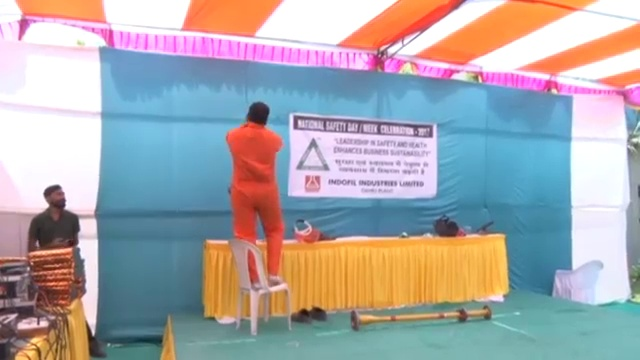helmet_off: (42, 183, 67, 213), (246, 100, 271, 127)
person: (225, 100, 287, 288), (26, 183, 81, 253)
